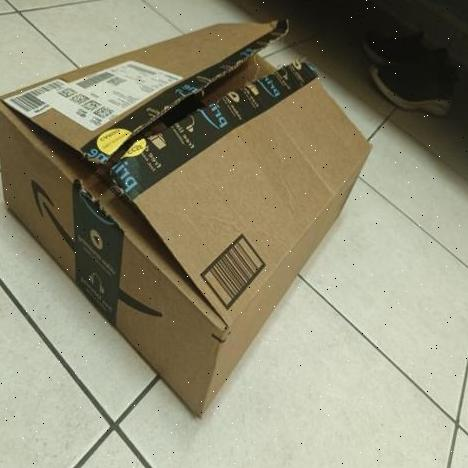Amazon: (0, 21, 370, 411)
